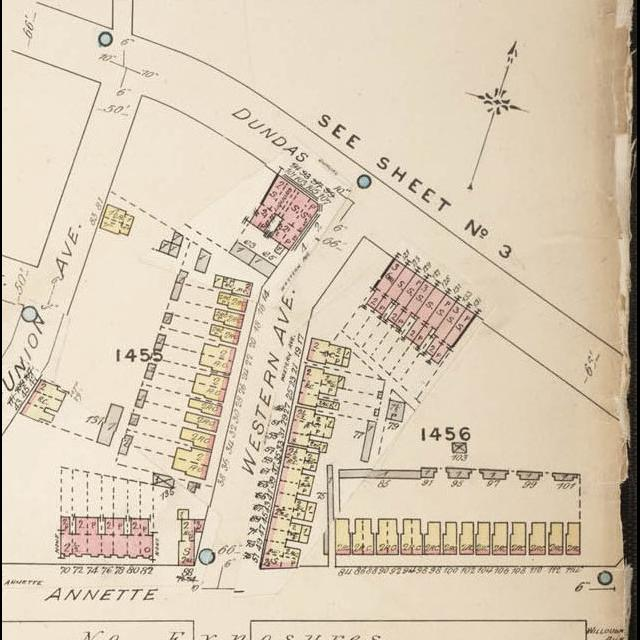building-footprints: (260, 446, 320, 569), (250, 174, 318, 250), (61, 516, 154, 558), (432, 308, 477, 364), (413, 294, 457, 346), (426, 301, 467, 356), (289, 406, 336, 453), (406, 287, 446, 341), (298, 365, 346, 409), (367, 258, 406, 309), (20, 379, 66, 422), (375, 266, 416, 314), (395, 280, 436, 328), (388, 273, 426, 324), (308, 337, 352, 367), (173, 447, 212, 480), (179, 519, 206, 565), (200, 343, 237, 375), (97, 404, 124, 445), (192, 373, 230, 402), (100, 204, 135, 235), (214, 274, 253, 297), (340, 469, 422, 479), (180, 427, 216, 449), (377, 519, 399, 554), (353, 518, 374, 554), (402, 519, 423, 554), (185, 412, 220, 432), (188, 397, 223, 416), (218, 291, 249, 312), (250, 254, 277, 278), (213, 308, 245, 328), (362, 420, 377, 462), (230, 241, 257, 264), (210, 324, 241, 344), (336, 518, 351, 554), (425, 522, 441, 554), (530, 522, 546, 554), (493, 522, 508, 554), (511, 522, 526, 554), (549, 523, 564, 554), (460, 522, 474, 554), (476, 522, 490, 554), (567, 522, 581, 554), (195, 248, 212, 273), (444, 522, 457, 554), (387, 400, 405, 421), (154, 472, 175, 488), (119, 434, 134, 454), (480, 469, 509, 479), (447, 468, 472, 478), (136, 389, 148, 408), (170, 283, 183, 300), (517, 471, 543, 479), (154, 334, 166, 350), (176, 269, 189, 283), (160, 239, 172, 254), (169, 242, 181, 257), (173, 230, 184, 246), (145, 363, 156, 379), (553, 473, 578, 480), (188, 480, 201, 493), (422, 467, 437, 477), (453, 443, 467, 452), (130, 413, 140, 425), (178, 509, 189, 519), (163, 313, 173, 323), (378, 391, 383, 398), (375, 408, 379, 415)
